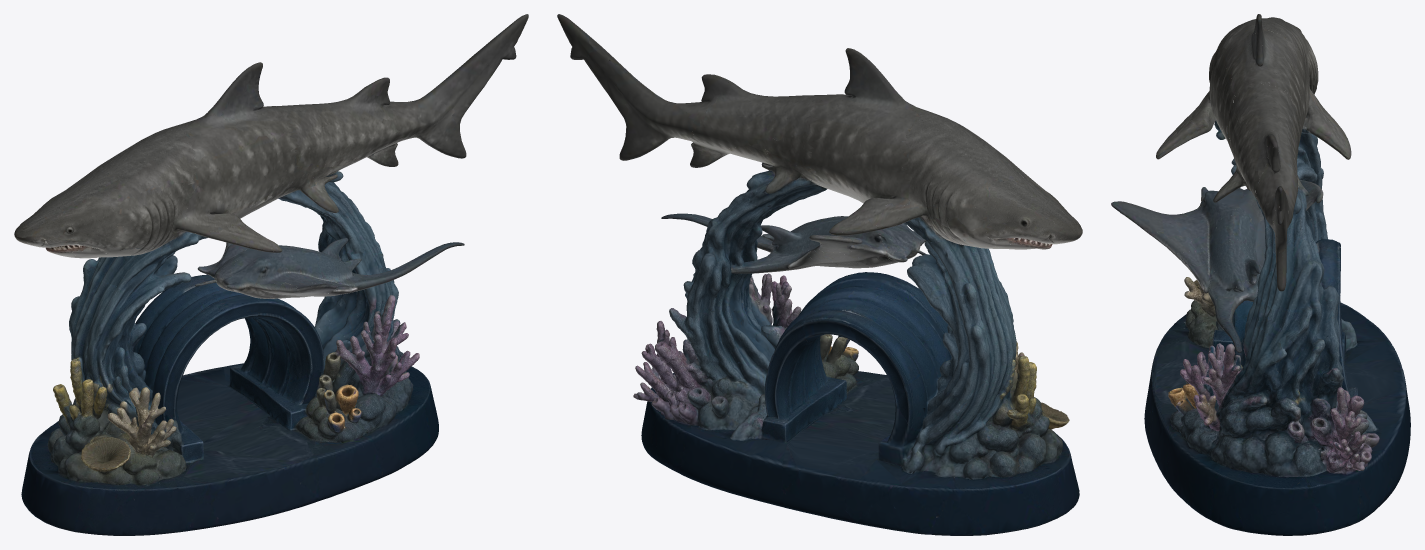
File: aquaria.glb
3 renders of one model, left to right at view 1: azimuth 30°, elevation 25°; view 2: azimuth 150°, elevation 25°; view 3: azimuth 270°, elevation 25°, orthographic. The views are drawn at different scales.
Visible parts, largest first — view 1: Meshy_AI_Shark_and_Ray_Aquariu_0813092537_texture.001; view 2: Meshy_AI_Shark_and_Ray_Aquariu_0813092537_texture.001; view 3: Meshy_AI_Shark_and_Ray_Aquariu_0813092537_texture.001.
Boxes of the visible parts, x1,y1,x2,y2 form: Meshy_AI_Shark_and_Ray_Aquariu_0813092537_texture.001: (14,14,528,535); Meshy_AI_Shark_and_Ray_Aquariu_0813092537_texture.001: (557,14,1082,535); Meshy_AI_Shark_and_Ray_Aquariu_0813092537_texture.001: (1111,14,1410,535).
Bounding box in the file's own units: 1.89 × 1.42 × 0.9022.
Materials: 1 (1 with a texture image).
